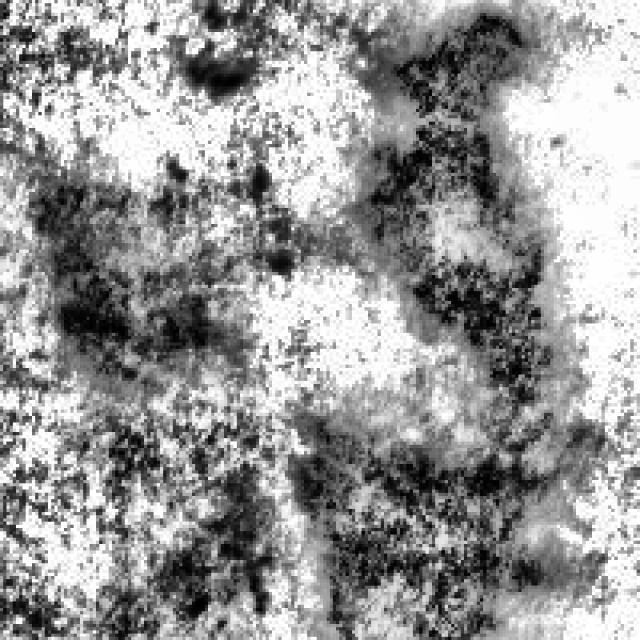Scratches: (339, 0, 563, 445), (288, 406, 570, 637), (36, 224, 214, 390)
